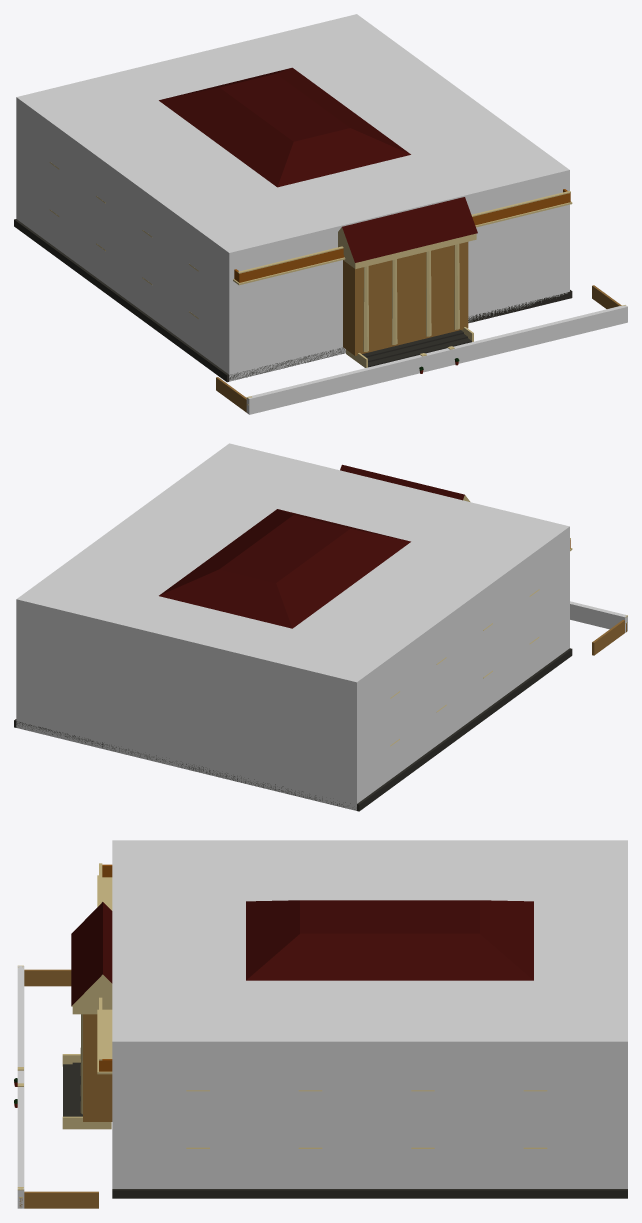
Rendered from B40_public_library.glb.
3 views of the same model, one above another, from view 1: azimuth 30°, elevation 25°; view 2: azimuth 150°, elevation 25°; view 3: azimuth 270°, elevation 25° (orthographic). The views are drawn at different scales.
Visible parts, largest first — view 1: COL_Main, LOD0, COL_Compound; view 2: COL_Main, LOD0, COL_Compound; view 3: COL_Main, LOD0, COL_Compound.
Boxes of the visible parts, x1,y1,x2,y2 form: COL_Main: (16,14,569,381); LOD0: (14,67,627,412); COL_Compound: (246,305,627,414); COL_Main: (16,443,569,810); LOD0: (14,464,627,811); COL_Compound: (570,601,627,632); COL_Main: (112,840,627,1188); LOD0: (14,863,627,1208); COL_Compound: (17,966,24,1208).
Size of what is drawn, in the model's own units: 40.04 by 15.04 by 46.43.
